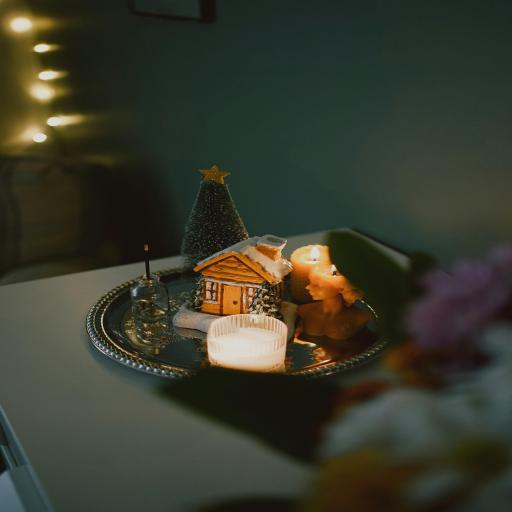candlelight: (194, 301, 288, 371), (294, 234, 333, 275), (311, 272, 358, 300)
